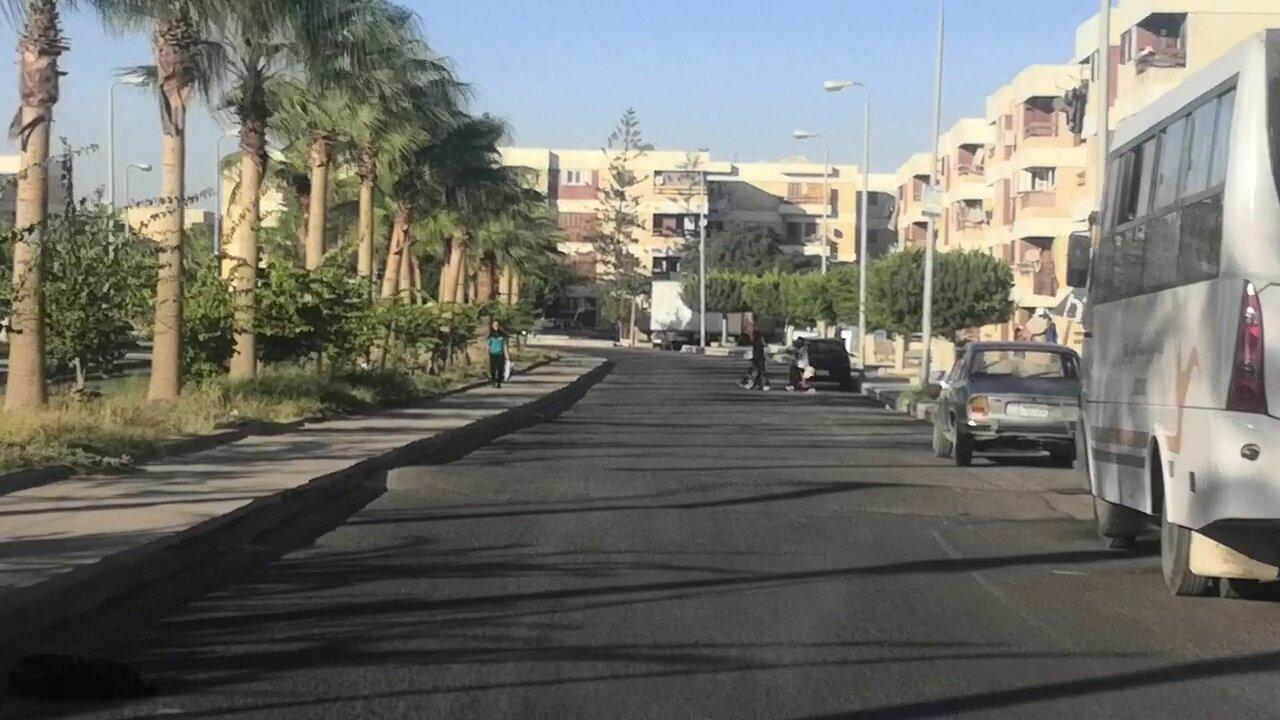Bump: (368, 463, 1078, 523)
